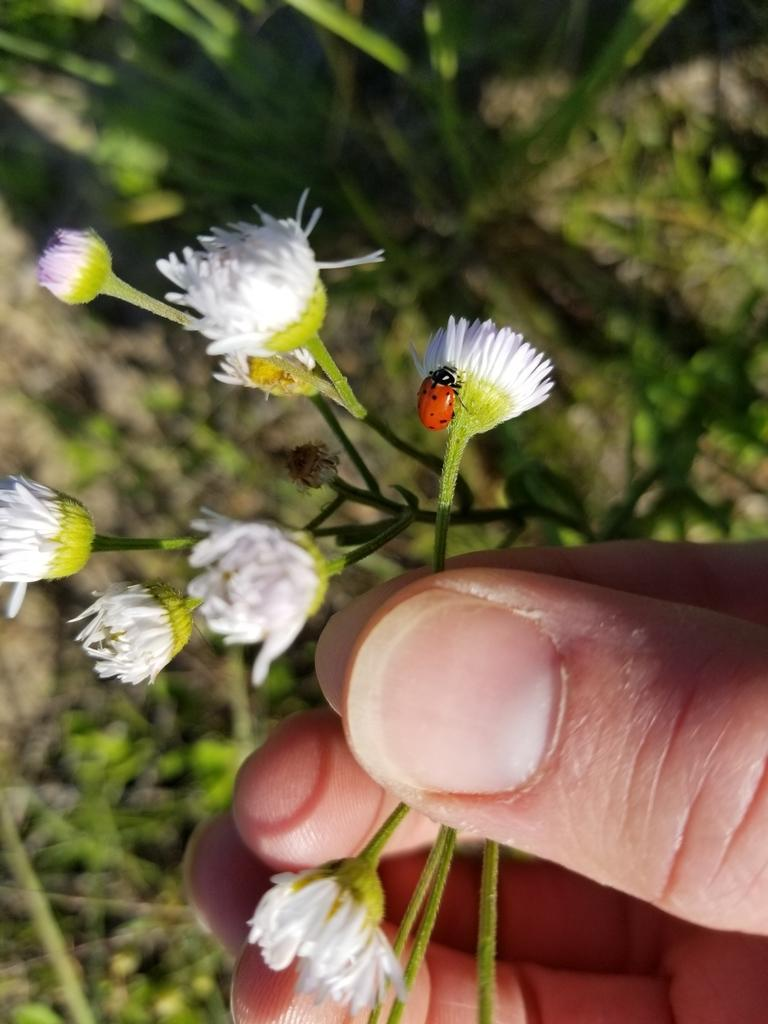ladybug: (411, 361, 474, 439)
